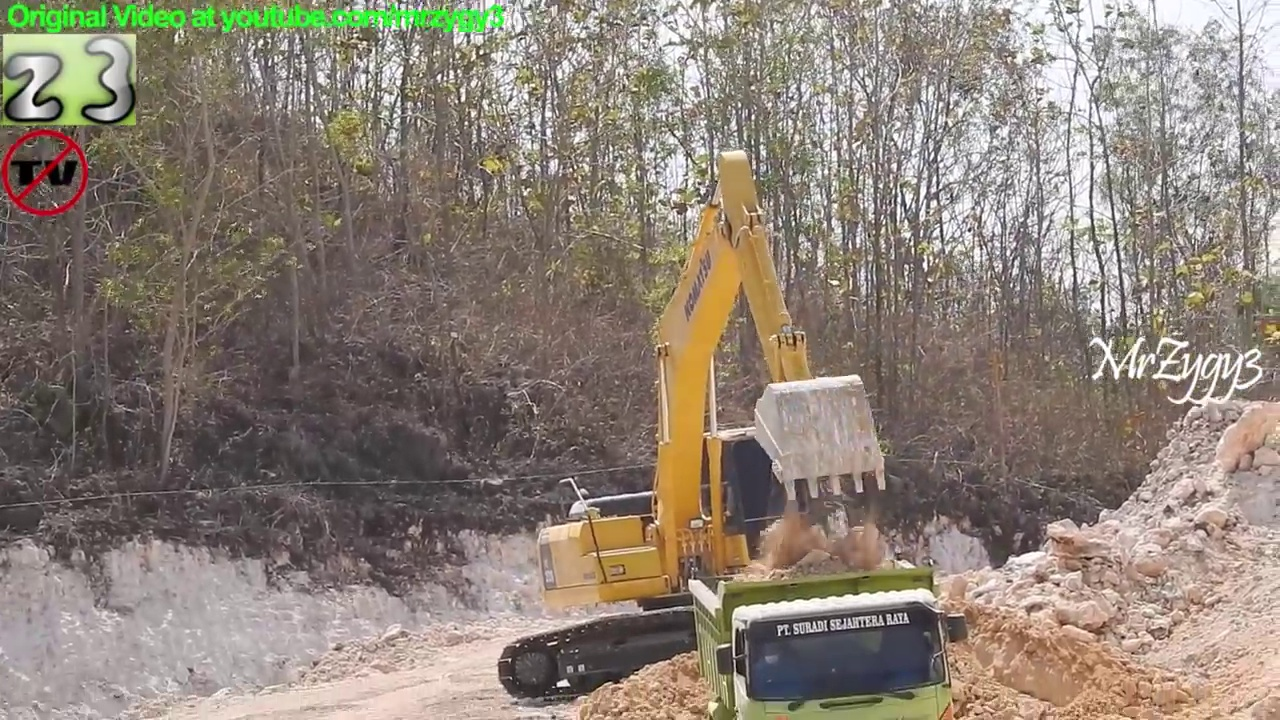excavator: (495, 144, 937, 710)
truck: (685, 551, 970, 720)
